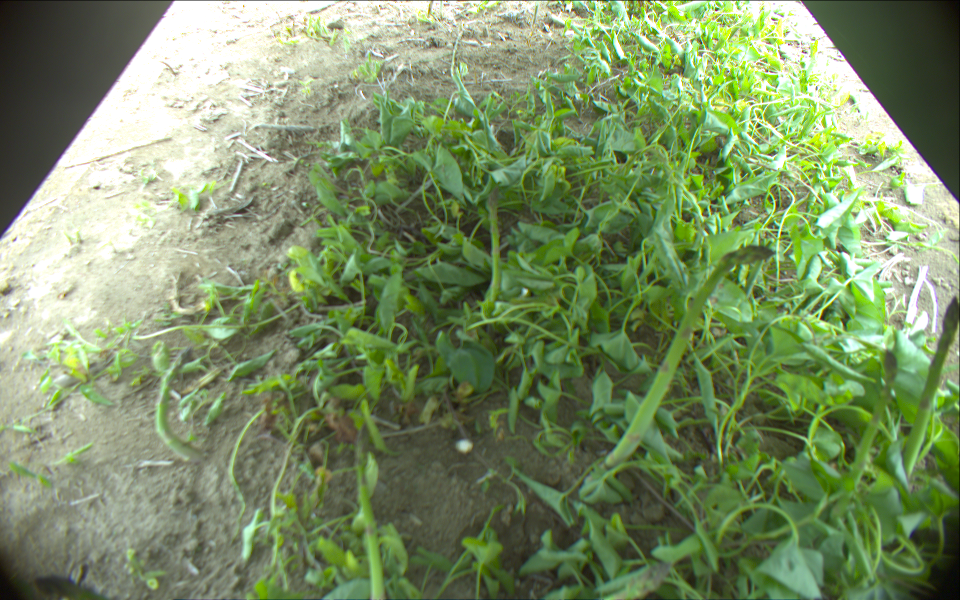aspa: (605, 246, 774, 467), (903, 294, 960, 479), (839, 346, 899, 518), (356, 424, 386, 600), (155, 346, 193, 461), (484, 187, 499, 316), (450, 31, 473, 102)
